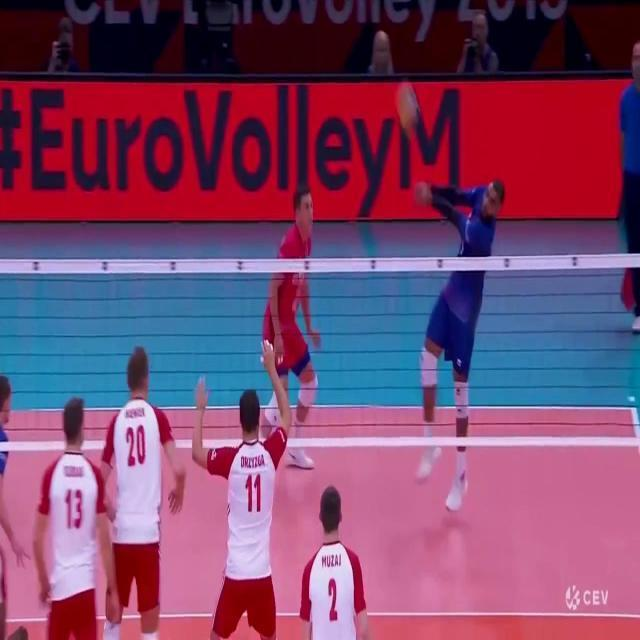volleyball: (399, 89, 417, 125)
